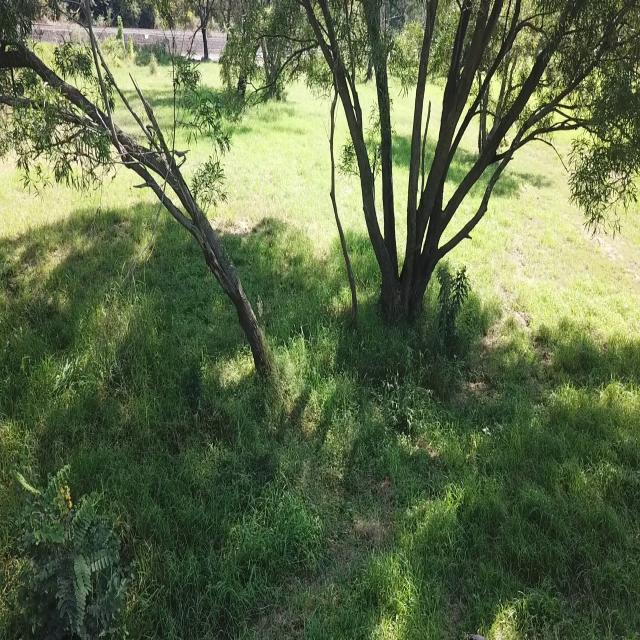Mysore-Thorn-Weed: (10, 460, 117, 632)
